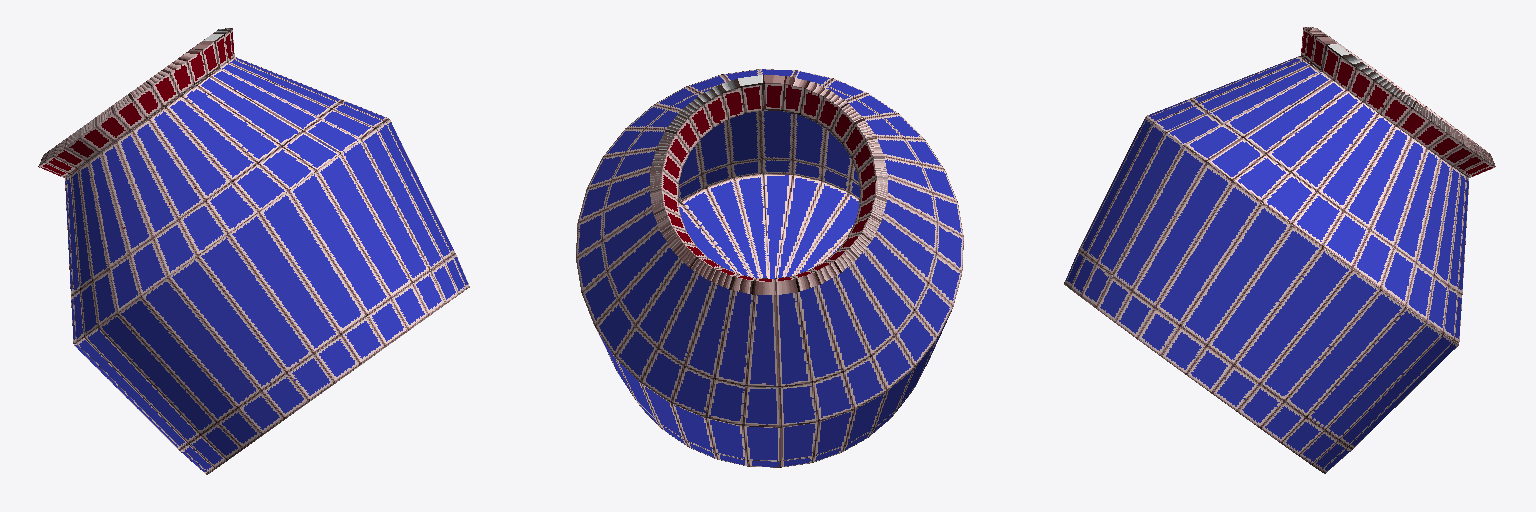
3 renders of one model, left to right at view 1: azimuth 30°, elevation 25°; view 2: azimuth 150°, elevation 25°; view 3: azimuth 270°, elevation 25°, orthographic.
Parts seen in each view (by area): view 1: Circle; view 2: Circle; view 3: Circle.
Part boxes in pixels (x1,y1,x2,y2): Circle: (38, 28, 469, 474); Circle: (576, 69, 963, 467); Circle: (1064, 27, 1495, 473).
Bounding box in the file's own units: 0.2959 × 0.3337 × 0.3227.
Materials: 1 (1 with a texture image).